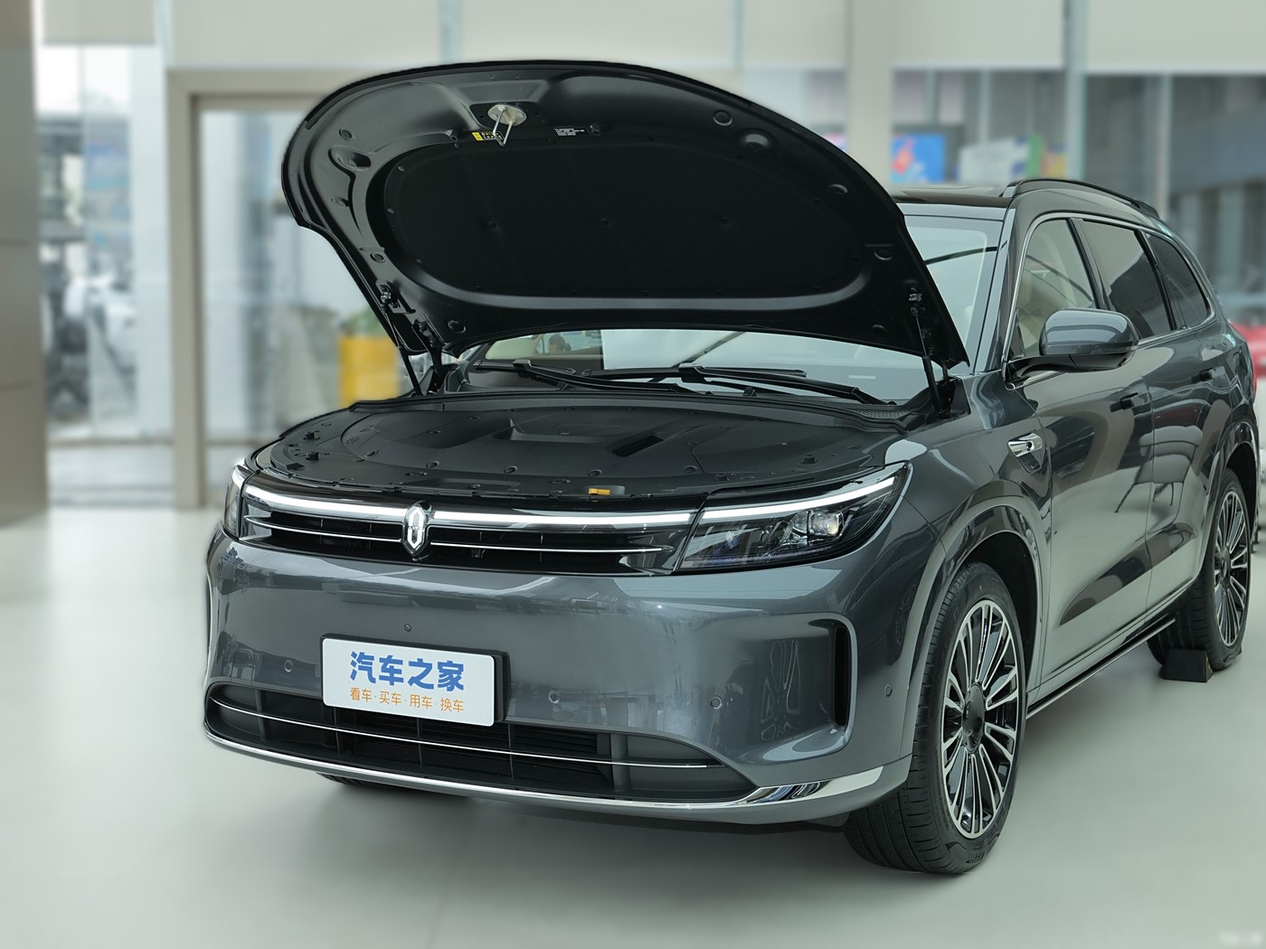AITO: (408, 508, 423, 548)
